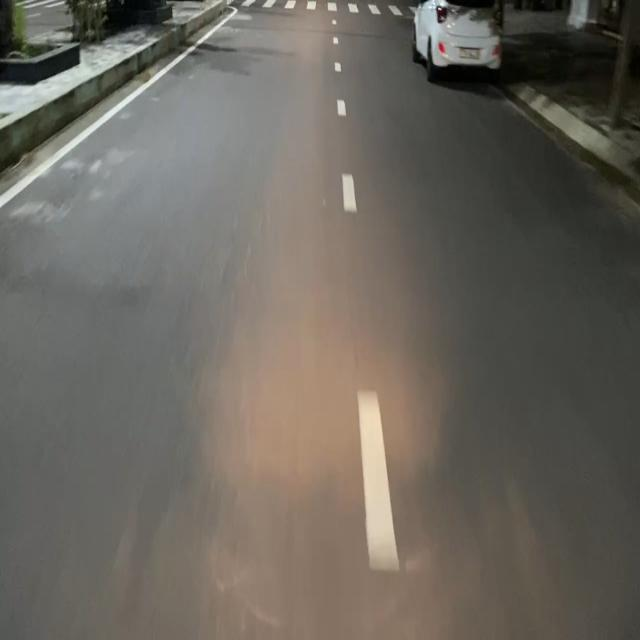walk-crossing: (224, 0, 411, 18)
